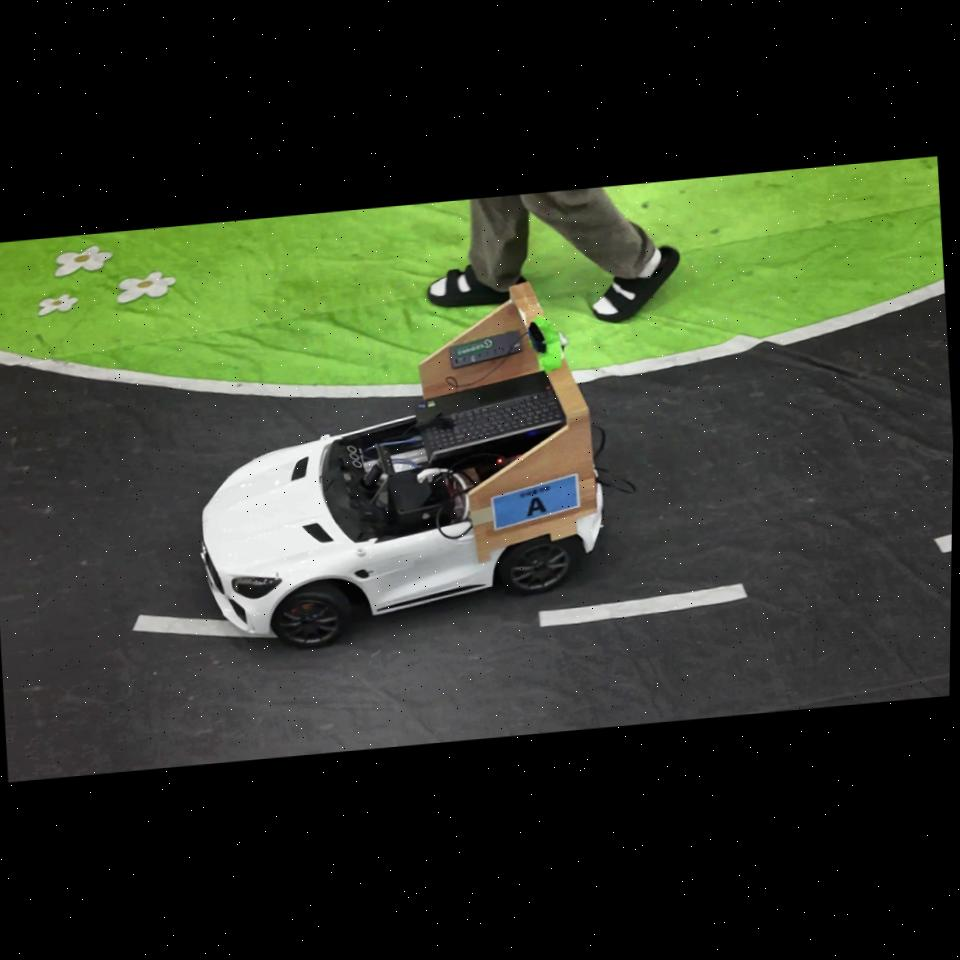broken_line: (538, 583, 748, 628), (132, 614, 278, 638), (933, 533, 952, 553)
